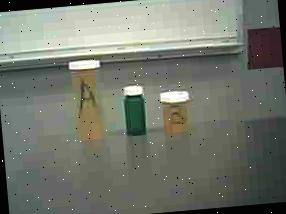Bottle A: (62, 54, 114, 150)
Bottle B: (157, 87, 195, 140)
Bottle C: (118, 82, 154, 142)
